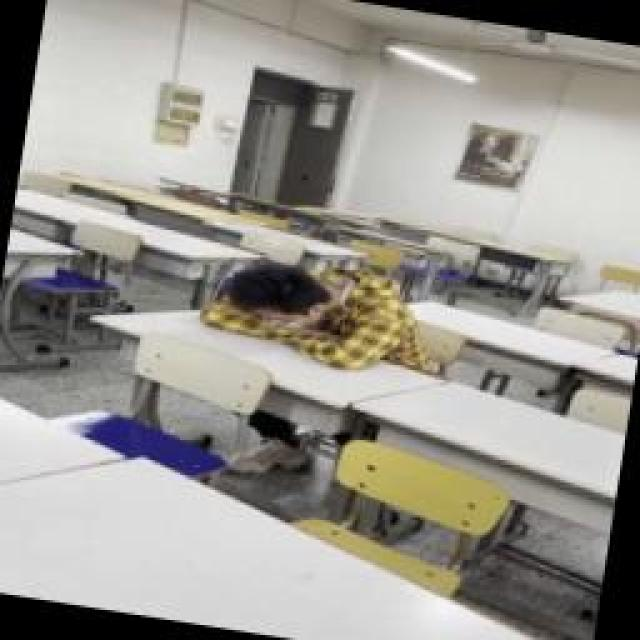sleep: (195, 237, 450, 385)
